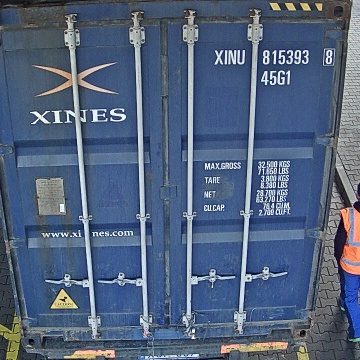serial_id: (213, 49, 333, 64)
